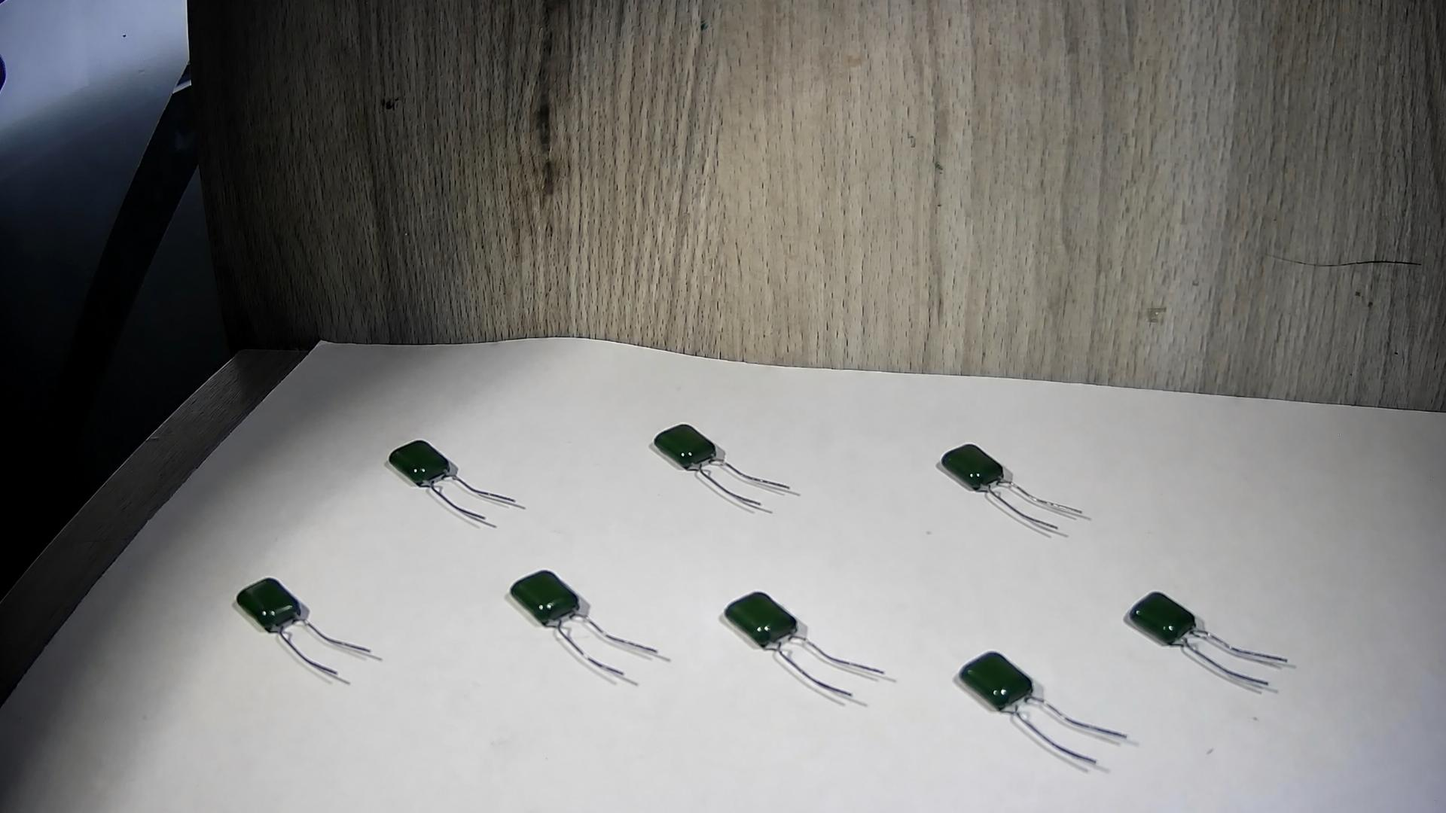capacitor ceramico: (205, 544, 429, 729), (702, 569, 906, 732), (933, 636, 1137, 799), (356, 405, 567, 541), (908, 413, 1107, 556), (1117, 569, 1322, 694), (499, 551, 670, 694), (640, 400, 818, 528)
